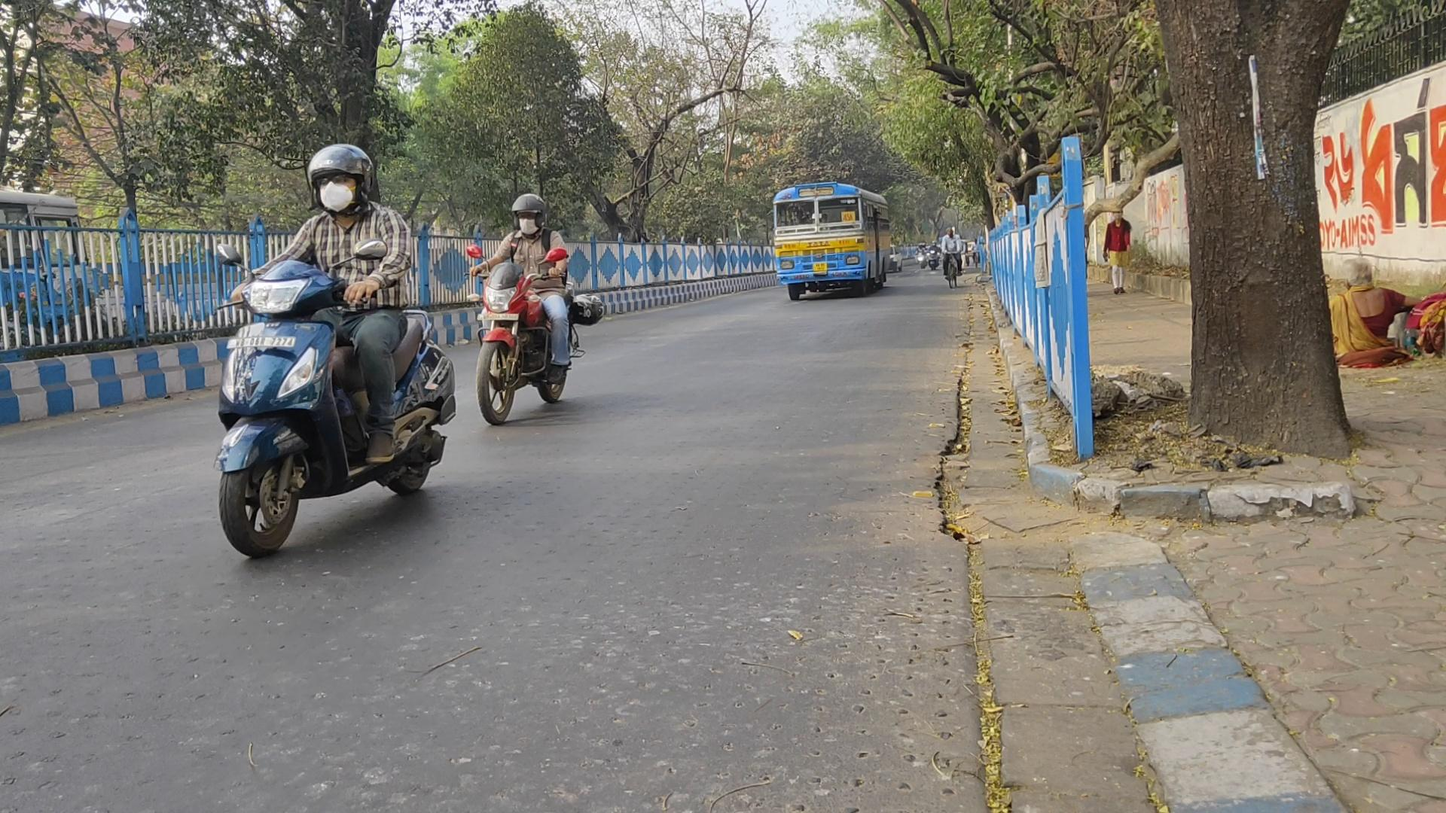Bus: (772, 181, 891, 300)
bike: (214, 145, 454, 557), (467, 193, 604, 425), (941, 227, 963, 289)
